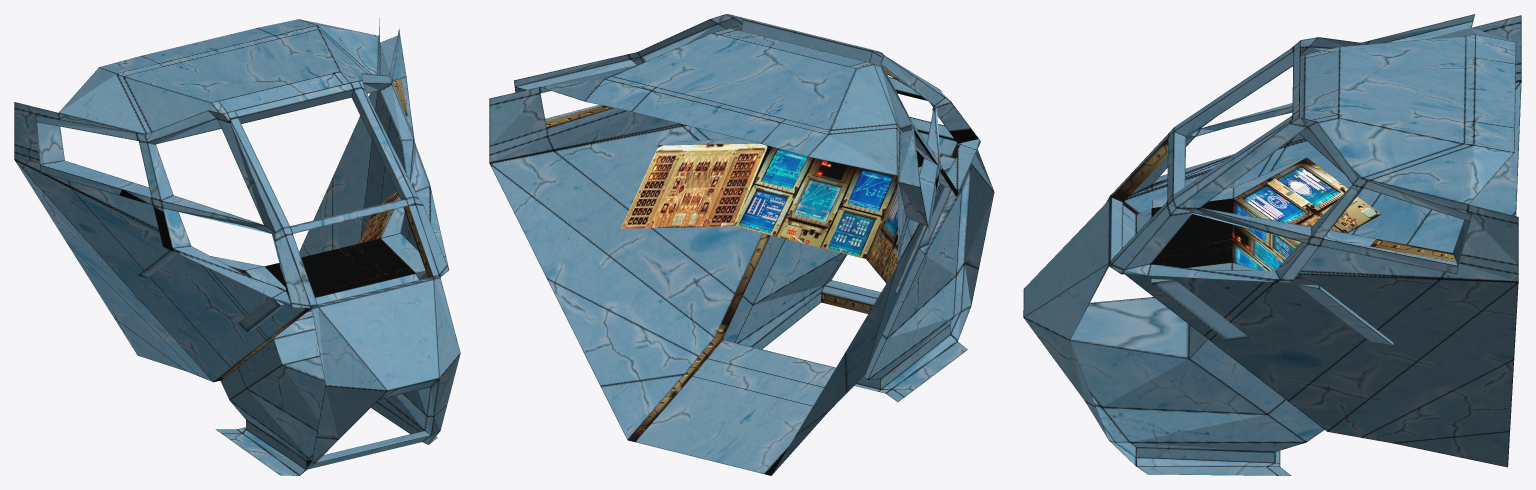
Rendered from blueCockpit.obj.
3 views of the same model, side by side, from view 1: azimuth 30°, elevation 25°; view 2: azimuth 150°, elevation 25°; view 3: azimuth 270°, elevation 25° (orthographic). The views are drawn at different scales.
Parts seen in each view (by area): view 1: Cube; view 2: Cube; view 3: Cube.
Part boxes in pixels (<box>): Cube: <box>14,18,460,475</box>; Cube: <box>489,14,994,475</box>; Cube: <box>1023,14,1521,475</box>.
Size of the model in its own units: 4.33 by 3.53 by 4.52.
